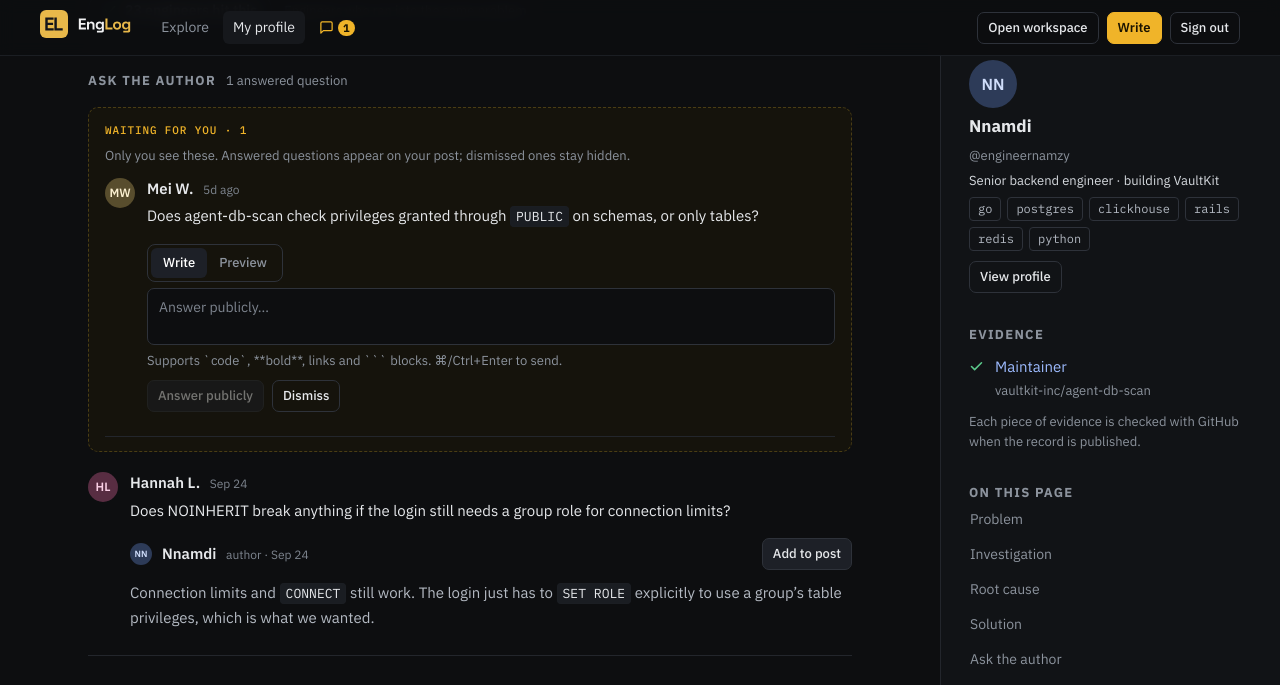
community features in the app › lets the author edit the wording before folding, keeping the thread unchanged, and credits the asker
(page scrolled)
expect the text "Does NOINHERIT break anything if the login still needs a group role for connection limits?" is shown: met, box [130,500,730,520]
Click the button "Add to post". click: (807, 554)
box: [762,538,852,570]
(page scrolled)
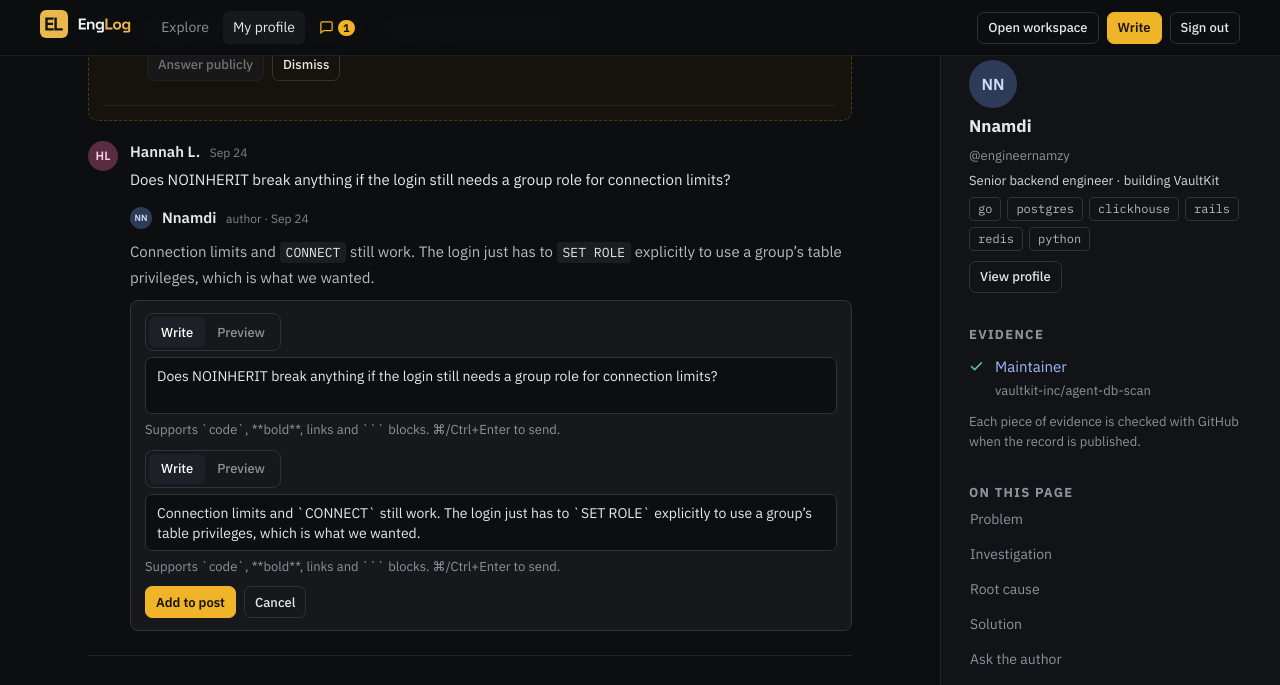
Replace the text in the 1st text box named "Question" with "Does NOINHERIT affect connection limits?". click: (491, 386)
box: [145,357,837,414]
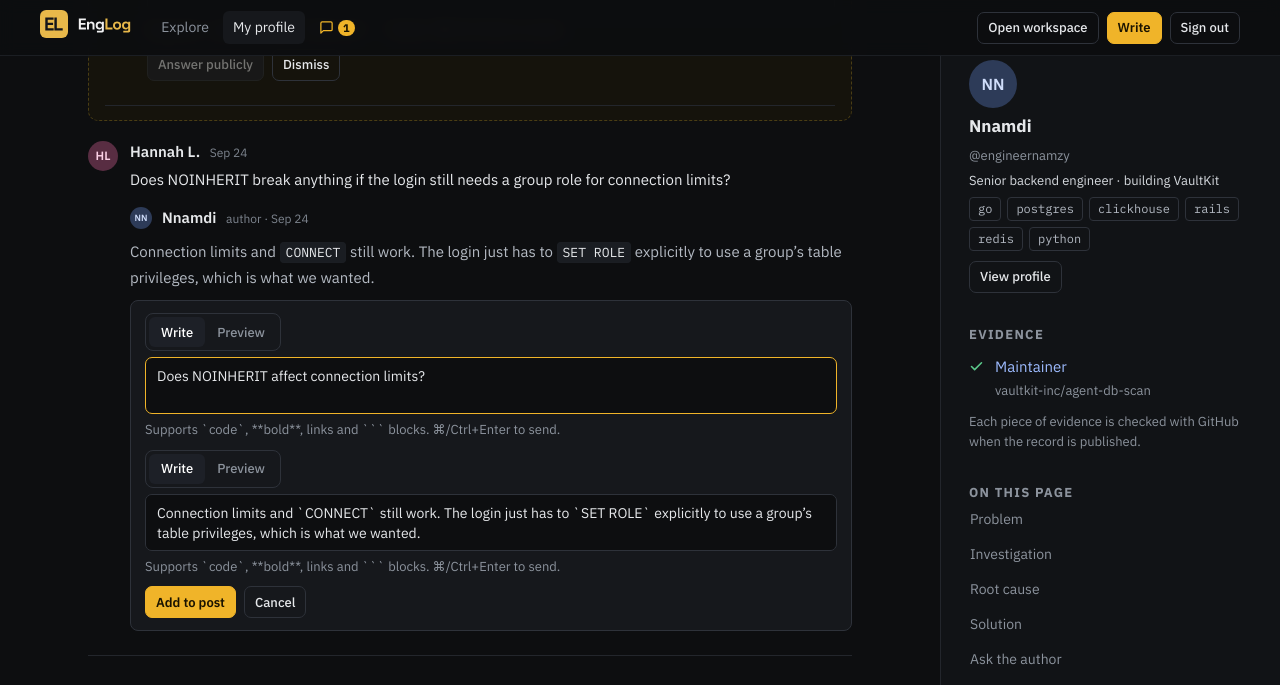
Replace the text in the 2nd text box named "Answer" with "No — connection limits are unaffected.". click: (491, 522)
box: [145,494,837,551]
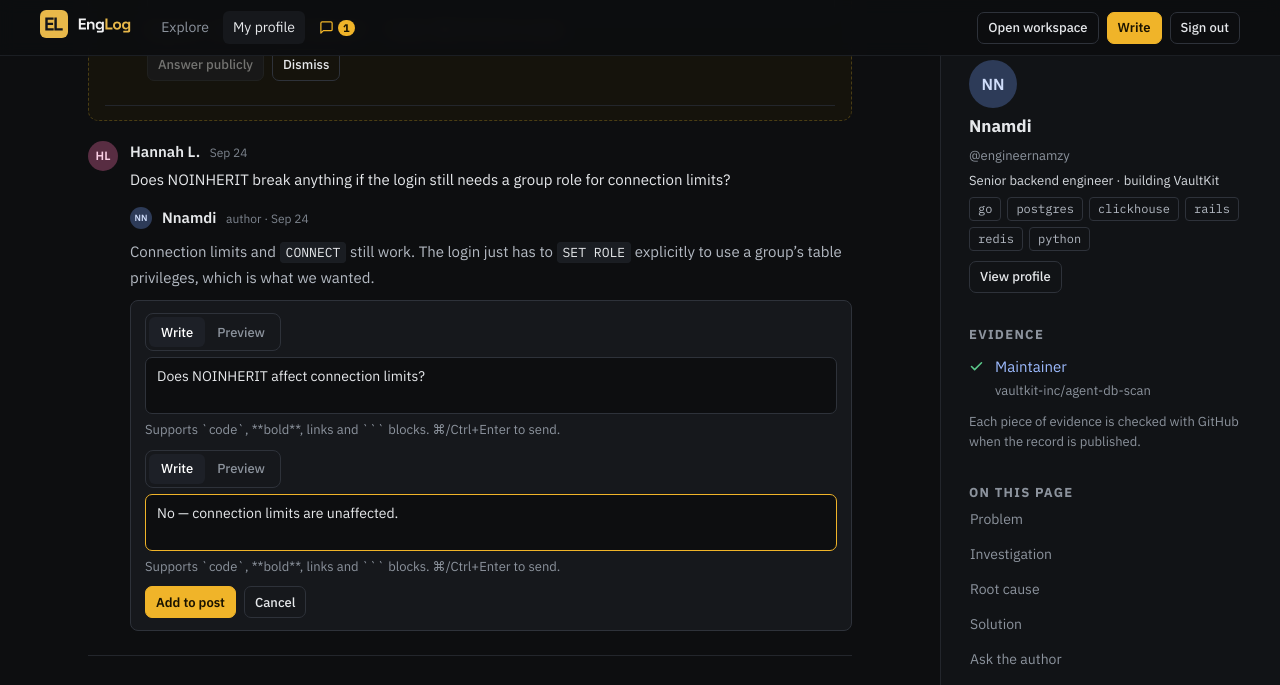
Click the button "Add to post". click: (190, 602)
box: [145,586,236,618]
(page scrolled)
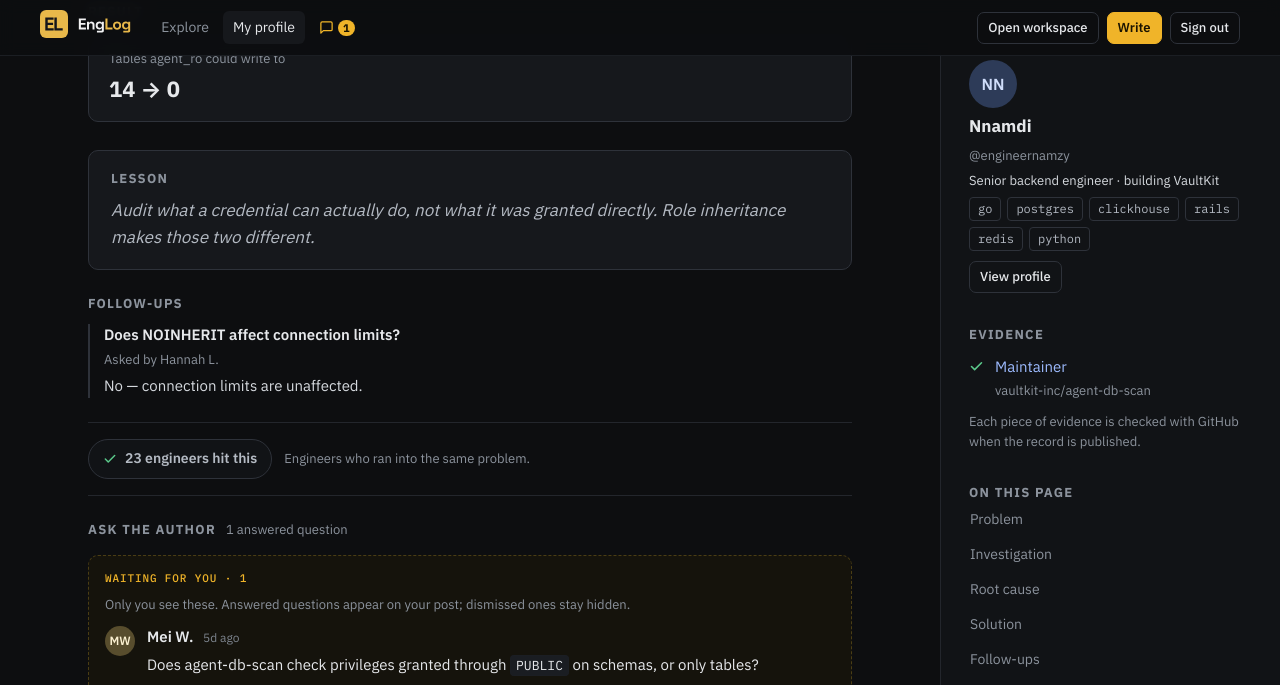
expect the text "Does NOINHERIT affect connection limits?" is shown: met, box [104,325,400,344]
expect the text "No — connection limits are unaffected." is shown: met, box [104,376,363,395]
